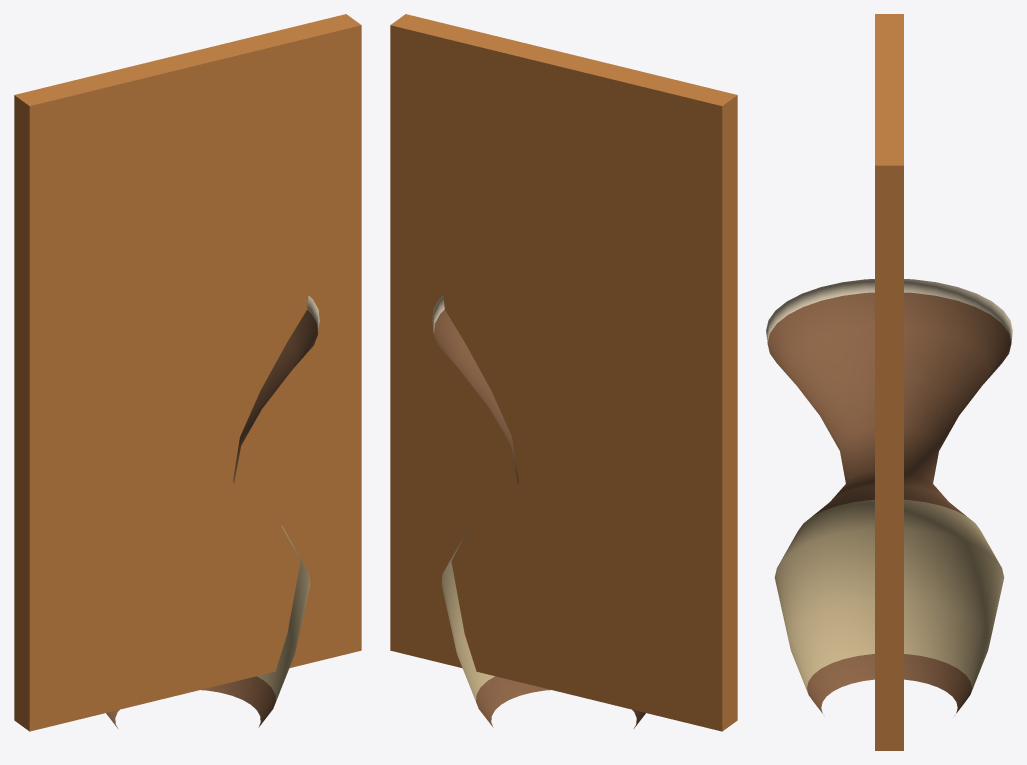
File: african_decor.glb
The picture shows the model from 3 angles, left to right: view 1: azimuth 30°, elevation 25°; view 2: azimuth 150°, elevation 25°; view 3: azimuth 270°, elevation 25°; orthographic projection. The views are drawn at different scales.
Visible parts, largest first — view 1: Mat_Adinkra_Panel, Mat_Drum_Wood, Mat_Bogolan_Band; view 2: Mat_Adinkra_Panel, Mat_Drum_Wood, Mat_Bogolan_Band; view 3: Mat_Drum_Wood, Mat_Bogolan_Band, Mat_Adinkra_Panel, Mat_Drum_Skin.
Boxes of the visible parts, left/top/right/bottom form: Mat_Adinkra_Panel: left=14, top=14, right=361, bottom=731; Mat_Drum_Wood: left=106, top=309, right=317, bottom=728; Mat_Bogolan_Band: left=257, top=525, right=310, bottom=701; Mat_Adinkra_Panel: left=390, top=14, right=737, bottom=731; Mat_Drum_Wood: left=434, top=309, right=645, bottom=728; Mat_Bogolan_Band: left=441, top=525, right=494, bottom=701; Mat_Drum_Wood: left=767, top=292, right=1011, bottom=713; Mat_Bogolan_Band: left=774, top=499, right=1004, bottom=693; Mat_Adinkra_Panel: left=875, top=14, right=903, bottom=750; Mat_Drum_Skin: left=766, top=279, right=1012, bottom=342.
Size of the model in its own units: 0.5 by 0.95 by 0.344.
